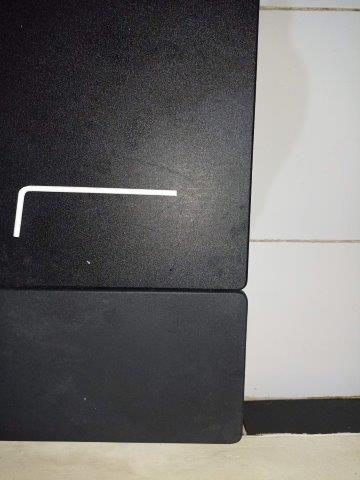sedotan: (12, 186, 178, 238)
